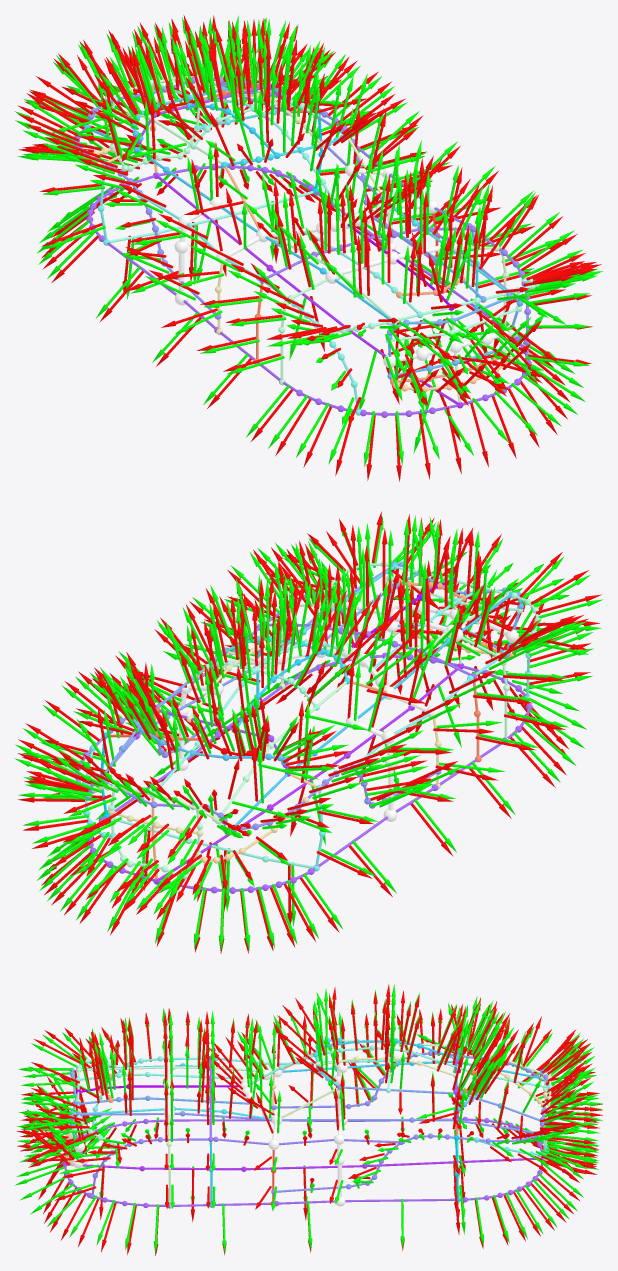
File: t2f_car_97.gltf
3 views of the same model, one above another, from view 1: azimuth 30°, elevation 25°; view 2: azimuth 150°, elevation 25°; view 3: azimuth 270°, elevation 25° (orthographic). The views are drawn at different scales.
Size of the model in its own units: 0.5741 by 0.4383 by 1.09.
